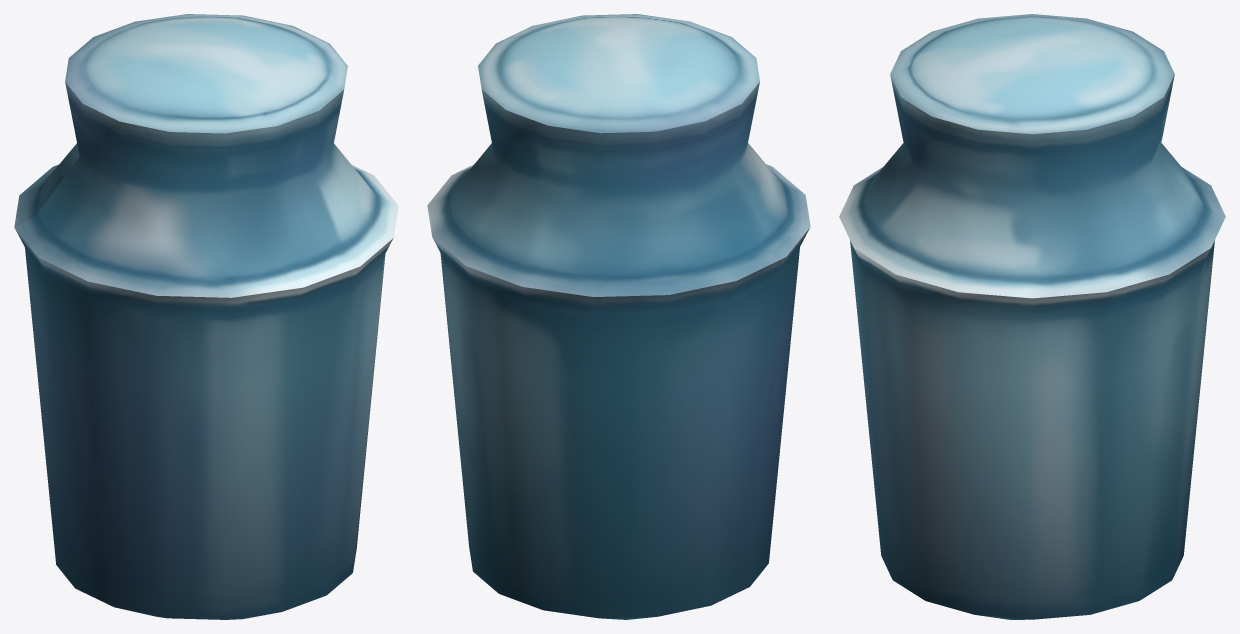
File: S_GardenThing_03.fbx
The picture shows the model from 3 angles, left to right: view 1: azimuth 30°, elevation 25°; view 2: azimuth 150°, elevation 25°; view 3: azimuth 270°, elevation 25°; orthographic projection.
Parts seen in each view (by area): view 1: S_GardenThing_03; view 2: S_GardenThing_03; view 3: S_GardenThing_03.
Part boxes in pixels (x1,y1,x2,y2): S_GardenThing_03: (14,14,398,619); S_GardenThing_03: (427,14,810,619); S_GardenThing_03: (839,14,1225,619).
Size of the model in its own units: 59.59 by 89.18 by 59.59.
